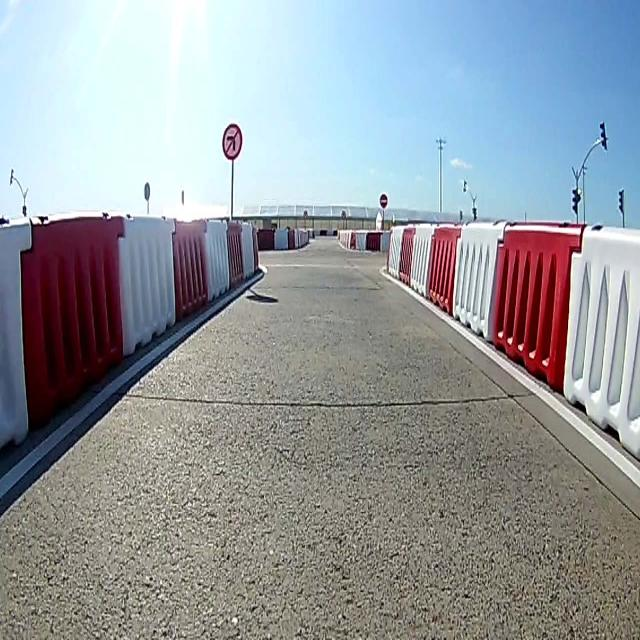girisyok: (380, 192, 388, 210)
soladonulmez: (221, 122, 243, 160)
